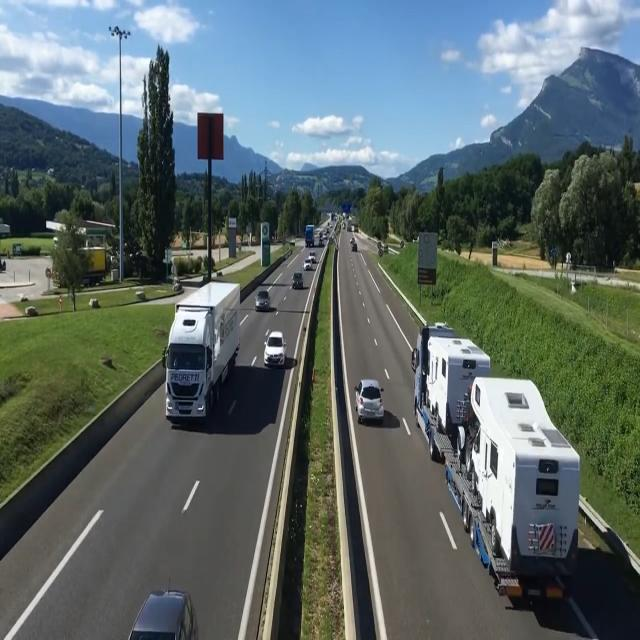car: (118, 581, 196, 640), (355, 379, 387, 428), (261, 330, 287, 370), (254, 285, 273, 313), (304, 217, 320, 250), (291, 265, 304, 295)
truck: (411, 280, 533, 512), (166, 281, 230, 429)
